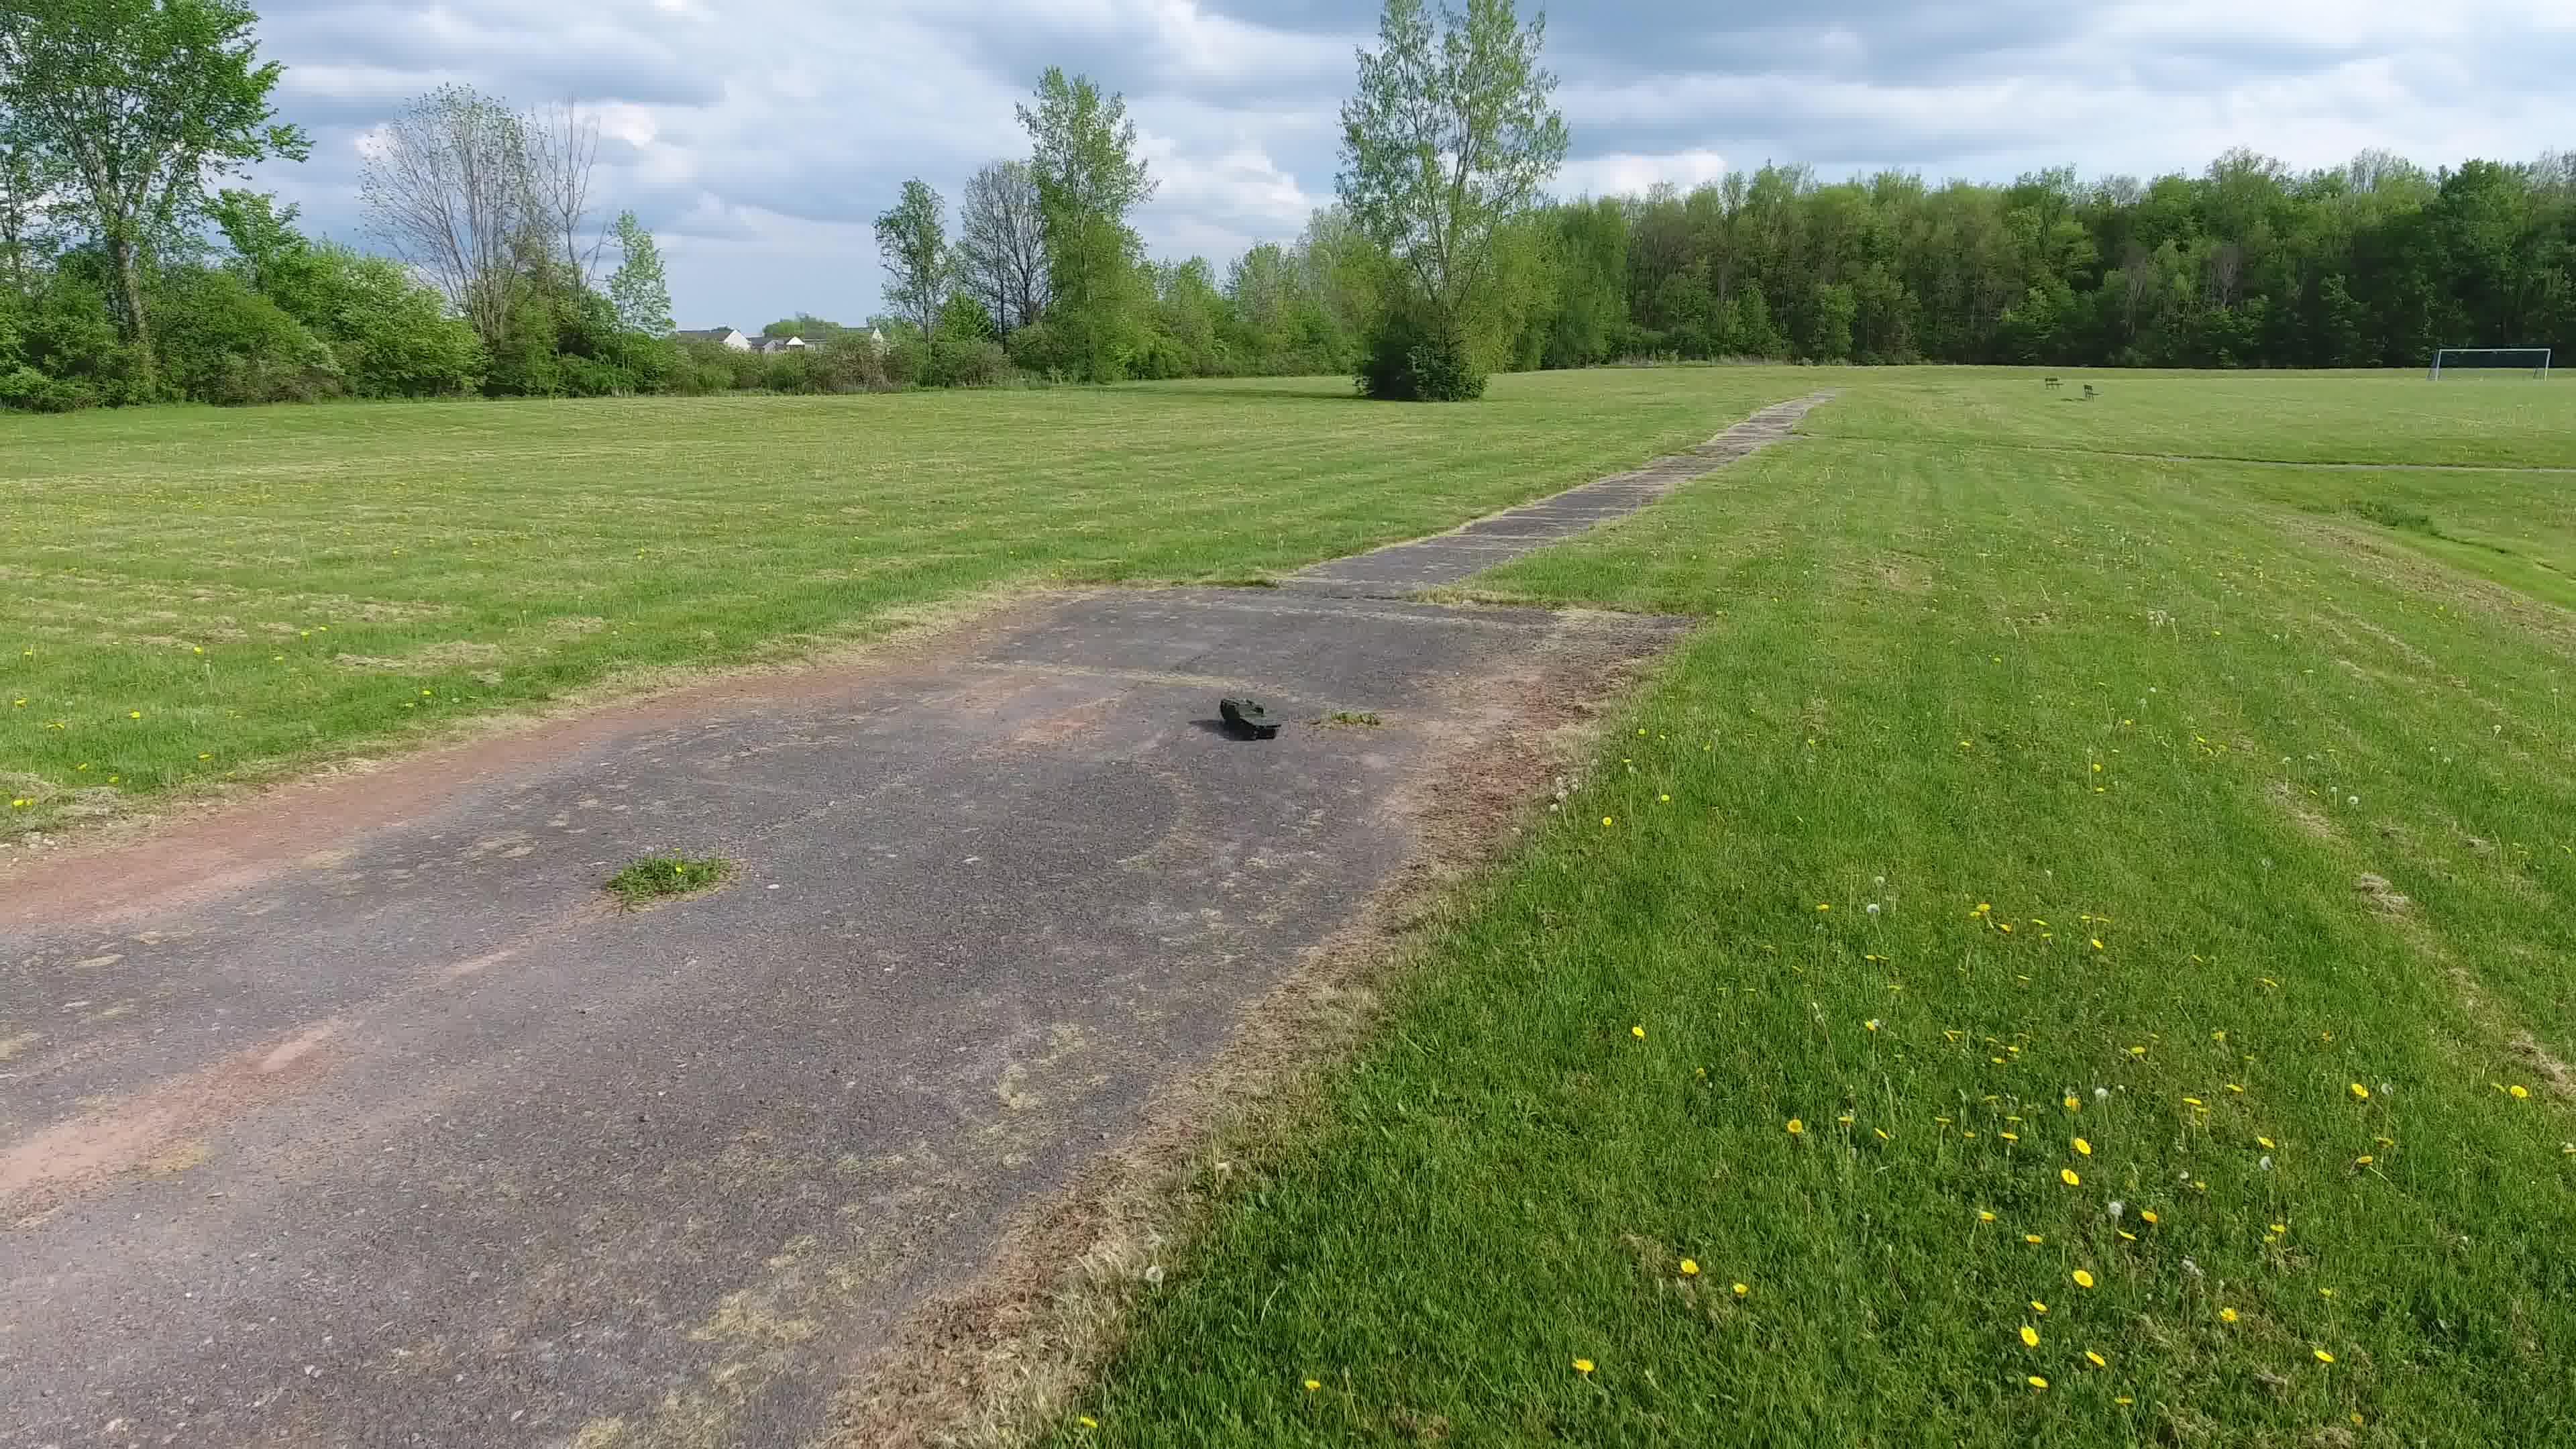transporter9: (1217, 694, 1283, 741)
